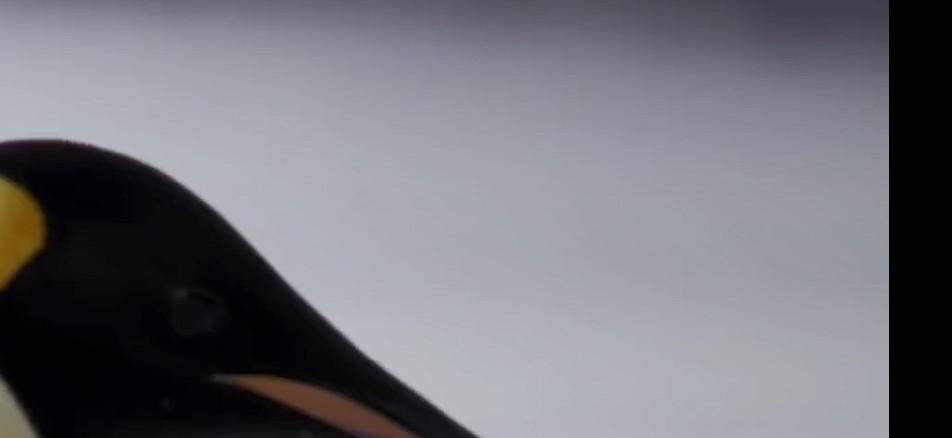Emperor Penguin: (0, 136, 552, 438)
